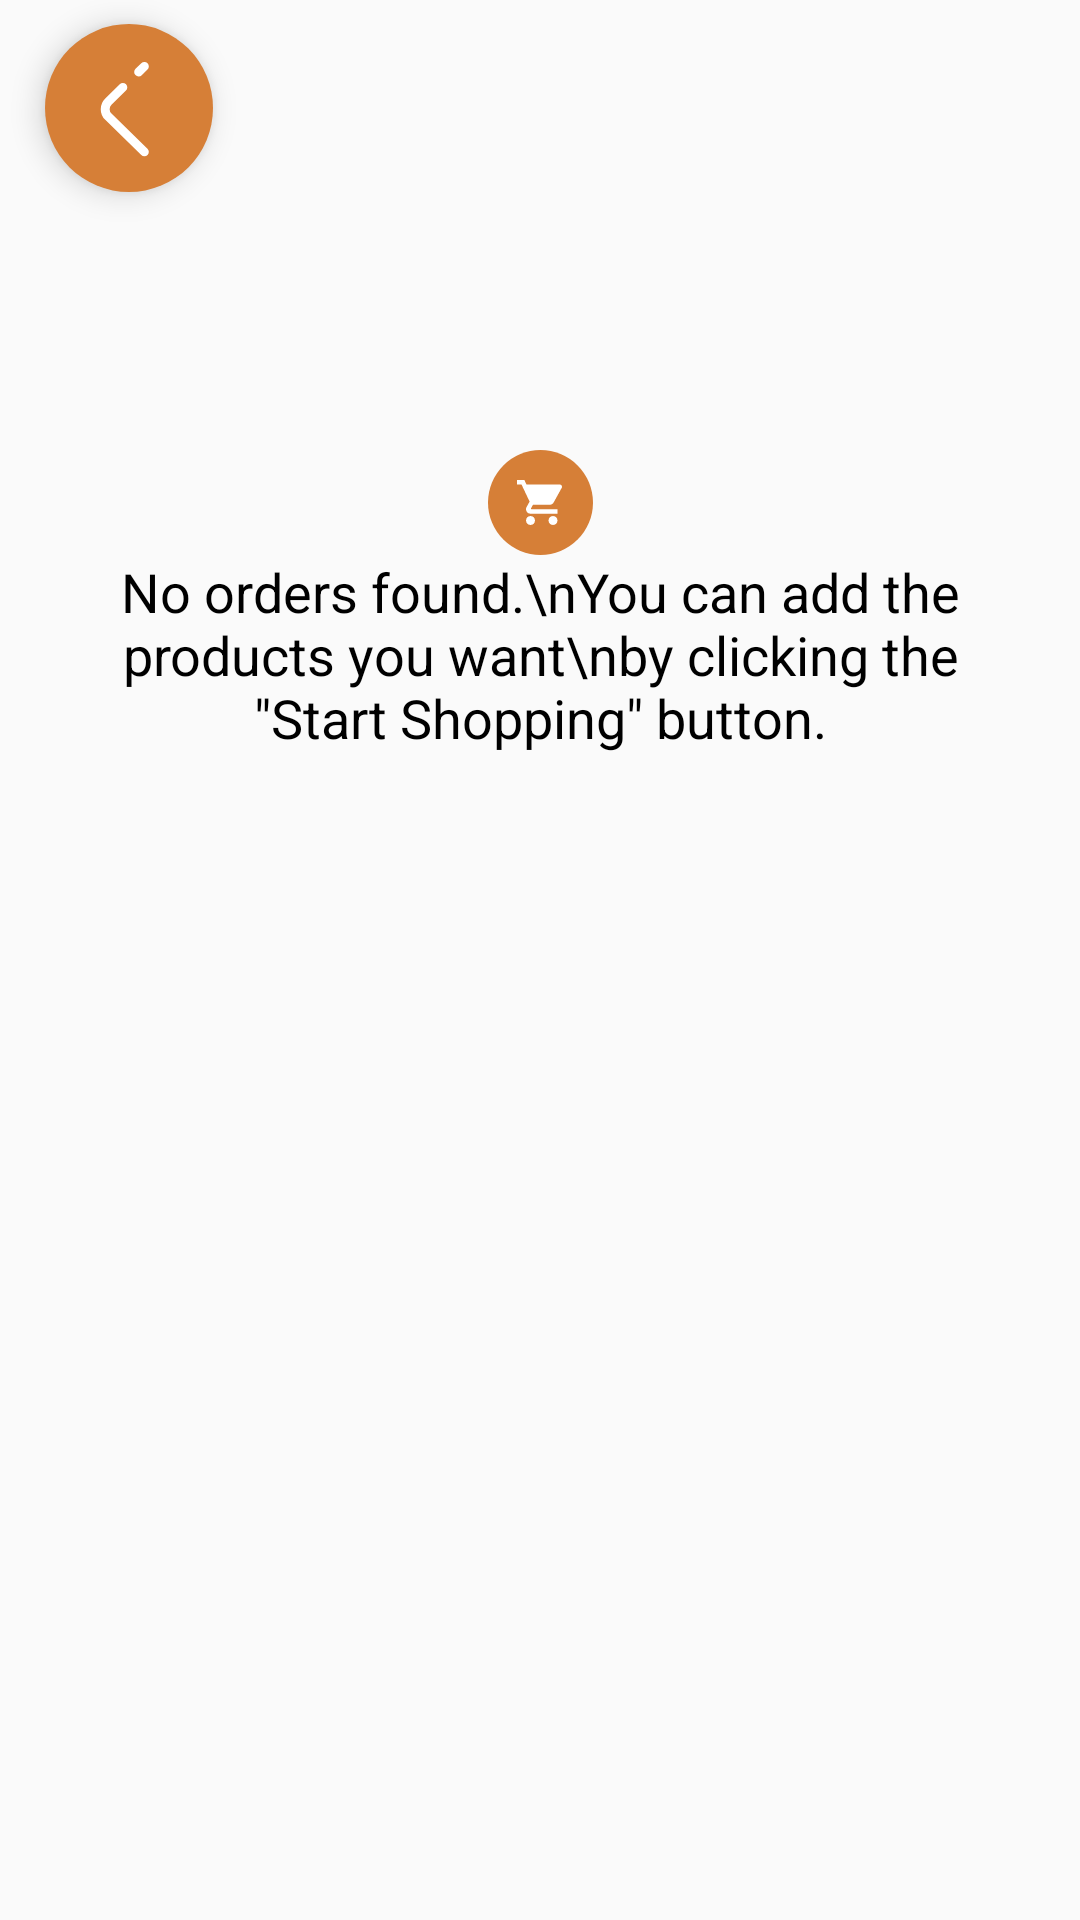

Locate icon controls on the screen. Image size 1080×1920, boxes as Rect(x1, y1, x2, y2).
arrowleft: Rect(45, 24, 213, 192)
